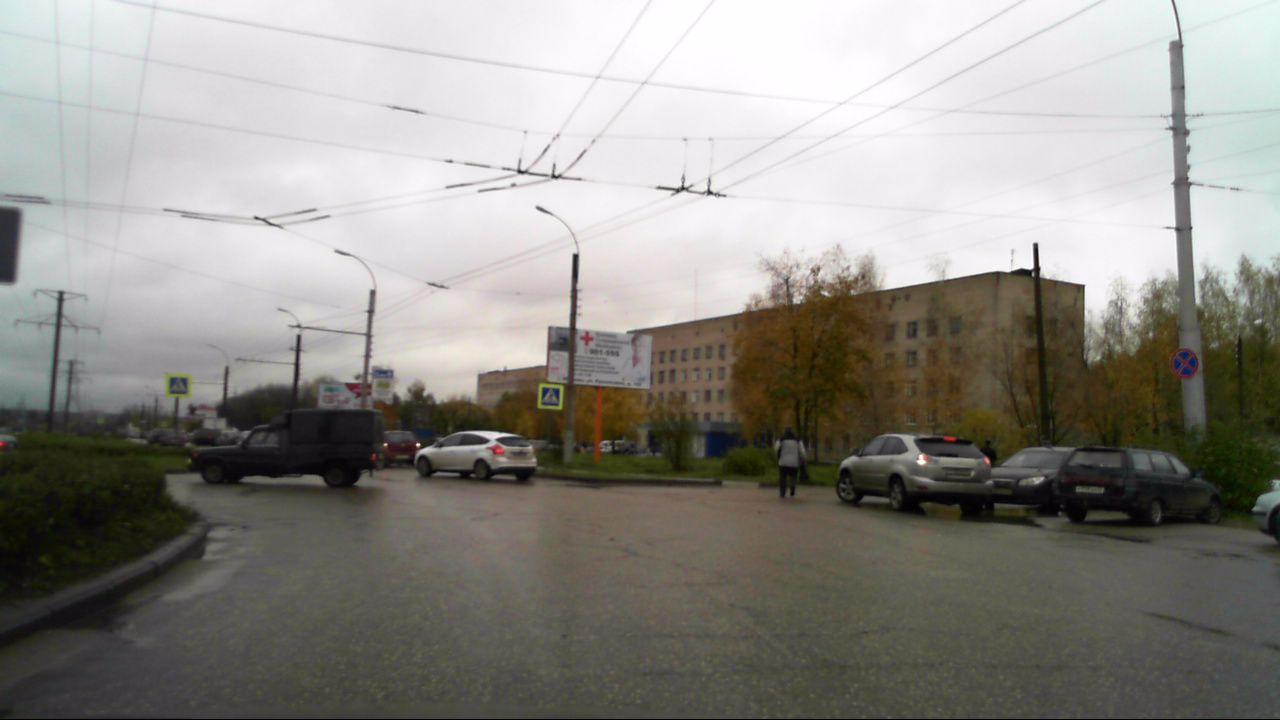No Parking: (1171, 348, 1199, 384)
